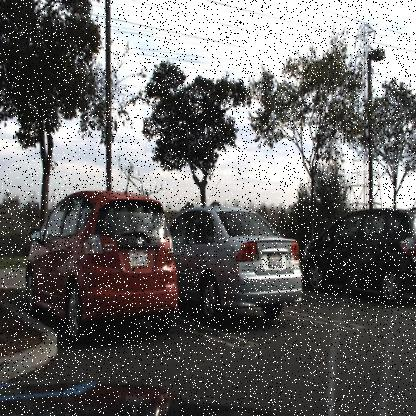car: (164, 202, 306, 330), (300, 201, 416, 308)
